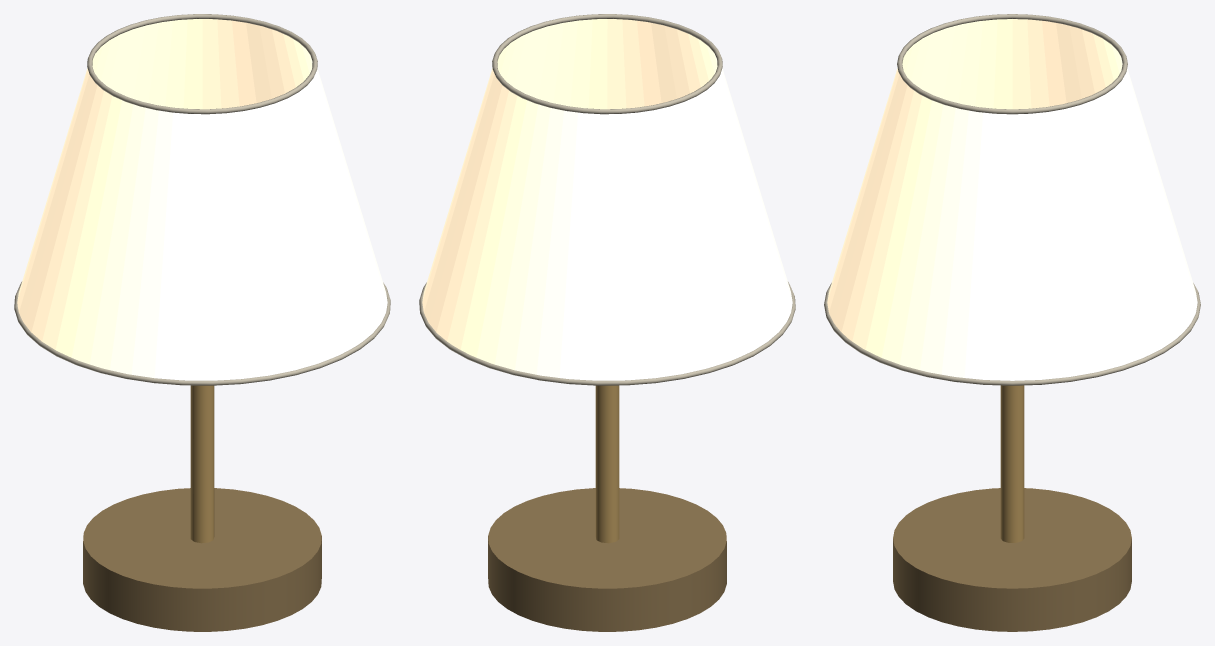
Rendered from rear-linen-lamp.glb.
3 views of the same model, side by side, from view 1: azimuth 30°, elevation 25°; view 2: azimuth 150°, elevation 25°; view 3: azimuth 270°, elevation 25° (orthographic).
Visible parts, largest first — view 1: part::rear-linen-lamp/open-woven-shade-001, part::rear-linen-lamp/weighted-bronze-lamp-base-001, part::rear-linen-lamp/lamp-stem-001, part::rear-linen-lamp/rolled-shade-edge-002, part::rear-linen-lamp/rolled-shade-edge-001; view 2: part::rear-linen-lamp/open-woven-shade-001, part::rear-linen-lamp/weighted-bronze-lamp-base-001, part::rear-linen-lamp/lamp-stem-001, part::rear-linen-lamp/rolled-shade-edge-002, part::rear-linen-lamp/rolled-shade-edge-001; view 3: part::rear-linen-lamp/open-woven-shade-001, part::rear-linen-lamp/weighted-bronze-lamp-base-001, part::rear-linen-lamp/lamp-stem-001, part::rear-linen-lamp/rolled-shade-edge-002, part::rear-linen-lamp/rolled-shade-edge-001.
Part boxes in pixels (x1=…): part::rear-linen-lamp/open-woven-shade-001: x1=17, y1=19, x2=387, y2=380; part::rear-linen-lamp/weighted-bronze-lamp-base-001: x1=83, y1=488, x2=321, y2=631; part::rear-linen-lamp/lamp-stem-001: x1=190, y1=385, x2=214, y2=543; part::rear-linen-lamp/rolled-shade-edge-002: x1=87, y1=14, x2=317, y2=114; part::rear-linen-lamp/rolled-shade-edge-001: x1=14, y1=282, x2=390, y2=385; part::rear-linen-lamp/open-woven-shade-001: x1=422, y1=19, x2=792, y2=380; part::rear-linen-lamp/weighted-bronze-lamp-base-001: x1=488, y1=488, x2=726, y2=631; part::rear-linen-lamp/lamp-stem-001: x1=595, y1=385, x2=619, y2=543; part::rear-linen-lamp/rolled-shade-edge-002: x1=492, y1=14, x2=722, y2=114; part::rear-linen-lamp/rolled-shade-edge-001: x1=419, y1=282, x2=795, y2=385; part::rear-linen-lamp/open-woven-shade-001: x1=827, y1=19, x2=1197, y2=380; part::rear-linen-lamp/weighted-bronze-lamp-base-001: x1=893, y1=488, x2=1131, y2=631; part::rear-linen-lamp/lamp-stem-001: x1=1000, y1=385, x2=1024, y2=542; part::rear-linen-lamp/rolled-shade-edge-002: x1=897, y1=14, x2=1127, y2=114; part::rear-linen-lamp/rolled-shade-edge-001: x1=824, y1=283, x2=1200, y2=385.
Size of the model in its own units: 0.284 by 0.432 by 0.284.
